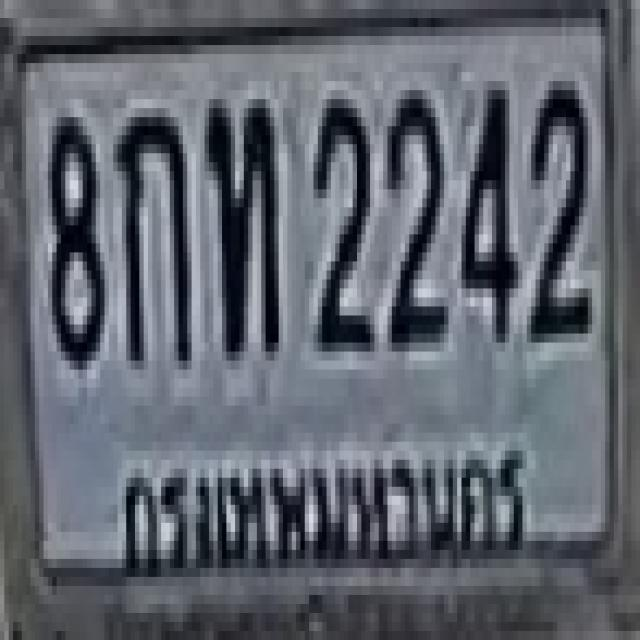-: (113, 108, 187, 361), (205, 90, 274, 352)
2: (383, 81, 440, 343), (529, 72, 586, 334), (309, 90, 366, 343)
4: (457, 72, 514, 334)
8: (48, 108, 100, 361)
BKK: (101, 417, 540, 586)
